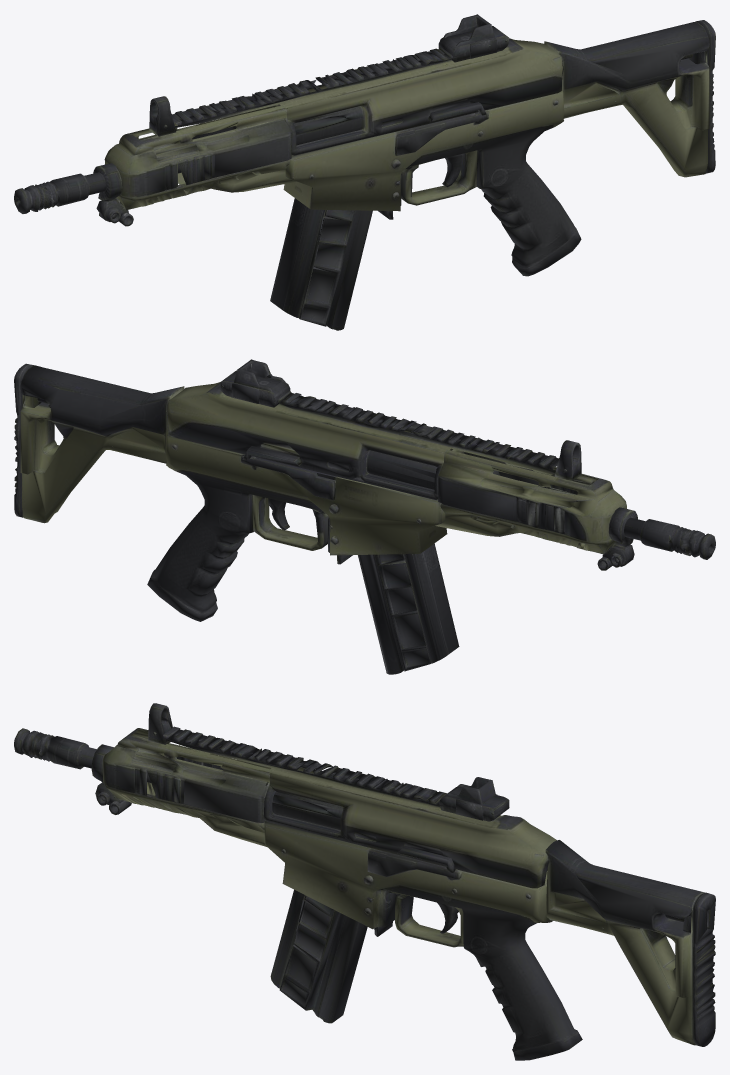
File: wpn_convoy_rifle.glb
3 views of the same model, one above another, from view 1: azimuth 30°, elevation 25°; view 2: azimuth 150°, elevation 25°; view 3: azimuth 330°, elevation 25° (orthographic).
Size of the model in its own units: 0.9575 by 0.3589 by 0.085.
Materials: 1 (1 with a texture image).
